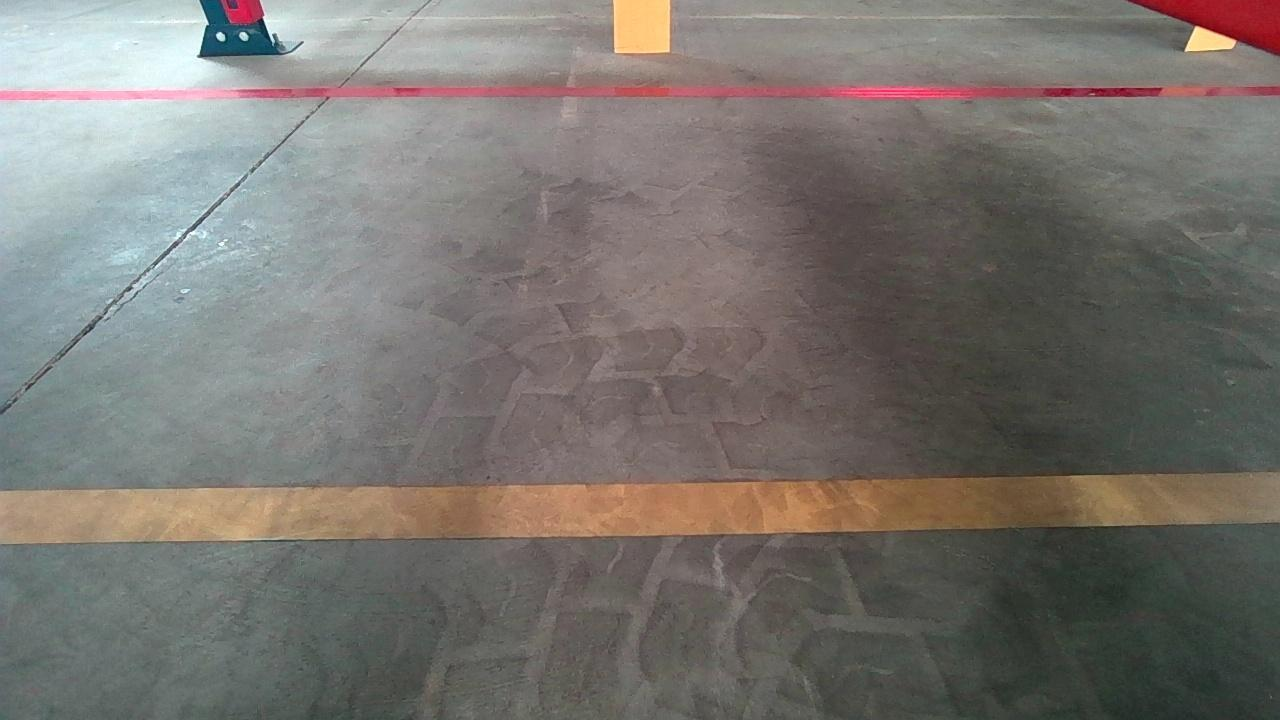orange_strip: (614, 0, 672, 53), (1180, 13, 1247, 53)
red_line: (0, 84, 1280, 100)
yellow_line: (2, 471, 1275, 546)
